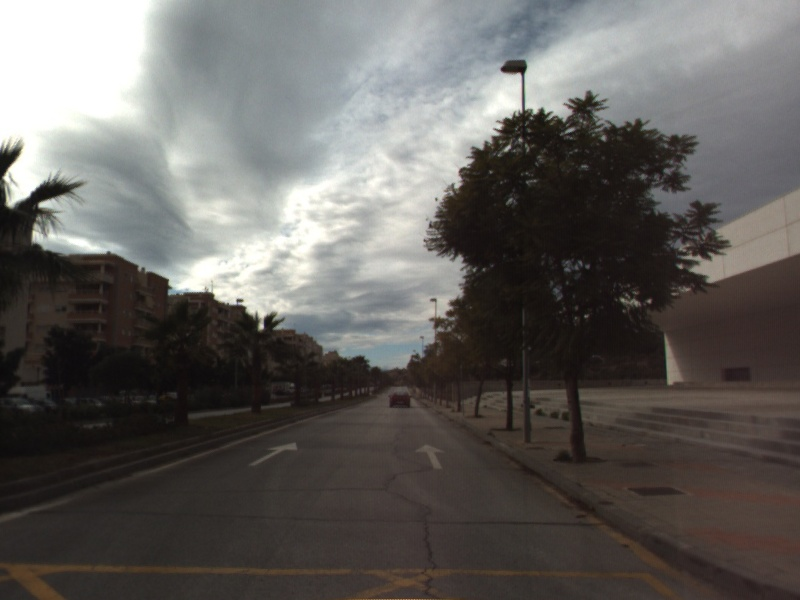STRAIGHT: (246, 440, 300, 468), (413, 442, 447, 471)
